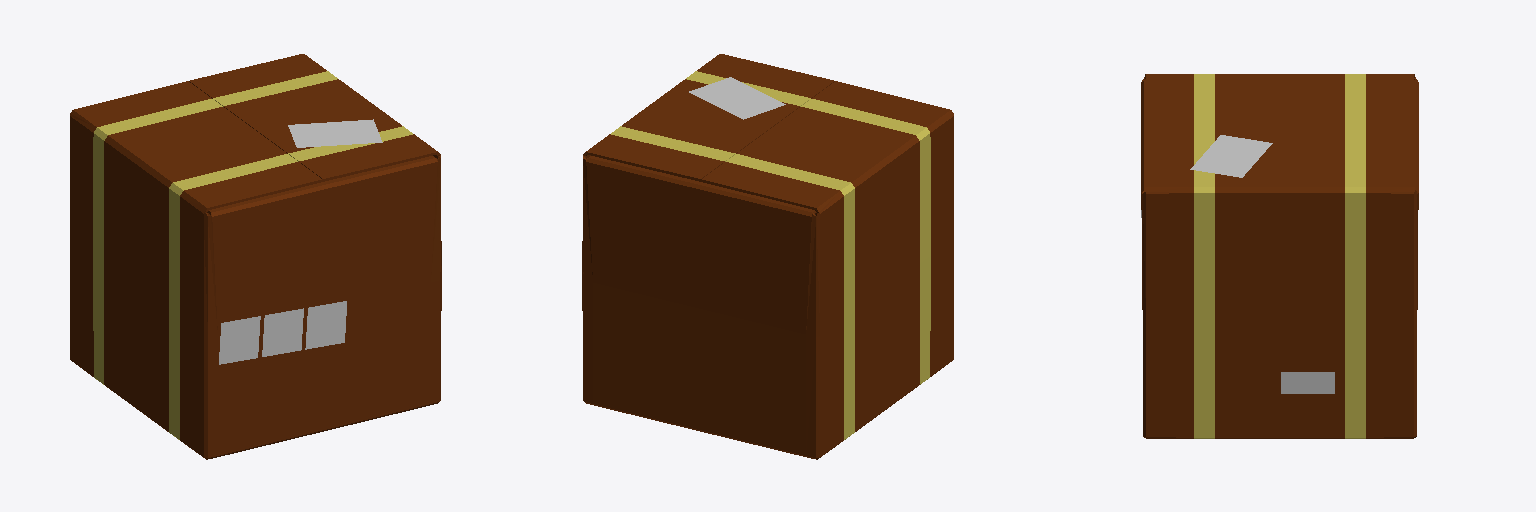
Rendered from Cardboard.019.obj.
3 renders of one model, left to right at view 1: azimuth 30°, elevation 25°; view 2: azimuth 150°, elevation 25°; view 3: azimuth 270°, elevation 25°, orthographic.
Parts seen in each view (by area): view 1: Cardboard.019_Cube.001, BlueSticker.010_Plane.016, sign3.002, sign4.009_sign4.002, sign2.010_sign2.004; view 2: Cardboard.019_Cube.001, BlueSticker.010_Plane.016; view 3: Cardboard.019_Cube.001, BlueSticker.010_Plane.016, codeBArre.010_codeBArre.006.
Part boxes in pixels (left/top/right/bottom): Cardboard.019_Cube.001: left=70, top=54, right=441, bottom=459; BlueSticker.010_Plane.016: left=288, top=119, right=382, bottom=147; sign3.002: left=262, top=308, right=303, bottom=356; sign4.009_sign4.002: left=305, top=301, right=346, bottom=349; sign2.010_sign2.004: left=219, top=316, right=260, bottom=364; Cardboard.019_Cube.001: left=582, top=54, right=953, bottom=459; BlueSticker.010_Plane.016: left=689, top=77, right=785, bottom=119; Cardboard.019_Cube.001: left=1141, top=74, right=1418, bottom=438; BlueSticker.010_Plane.016: left=1190, top=135, right=1272, bottom=177; codeBArre.010_codeBArre.006: left=1281, top=372, right=1334, bottom=393.
Size of the model in its own units: 0.8994 by 0.9127 by 0.9044.